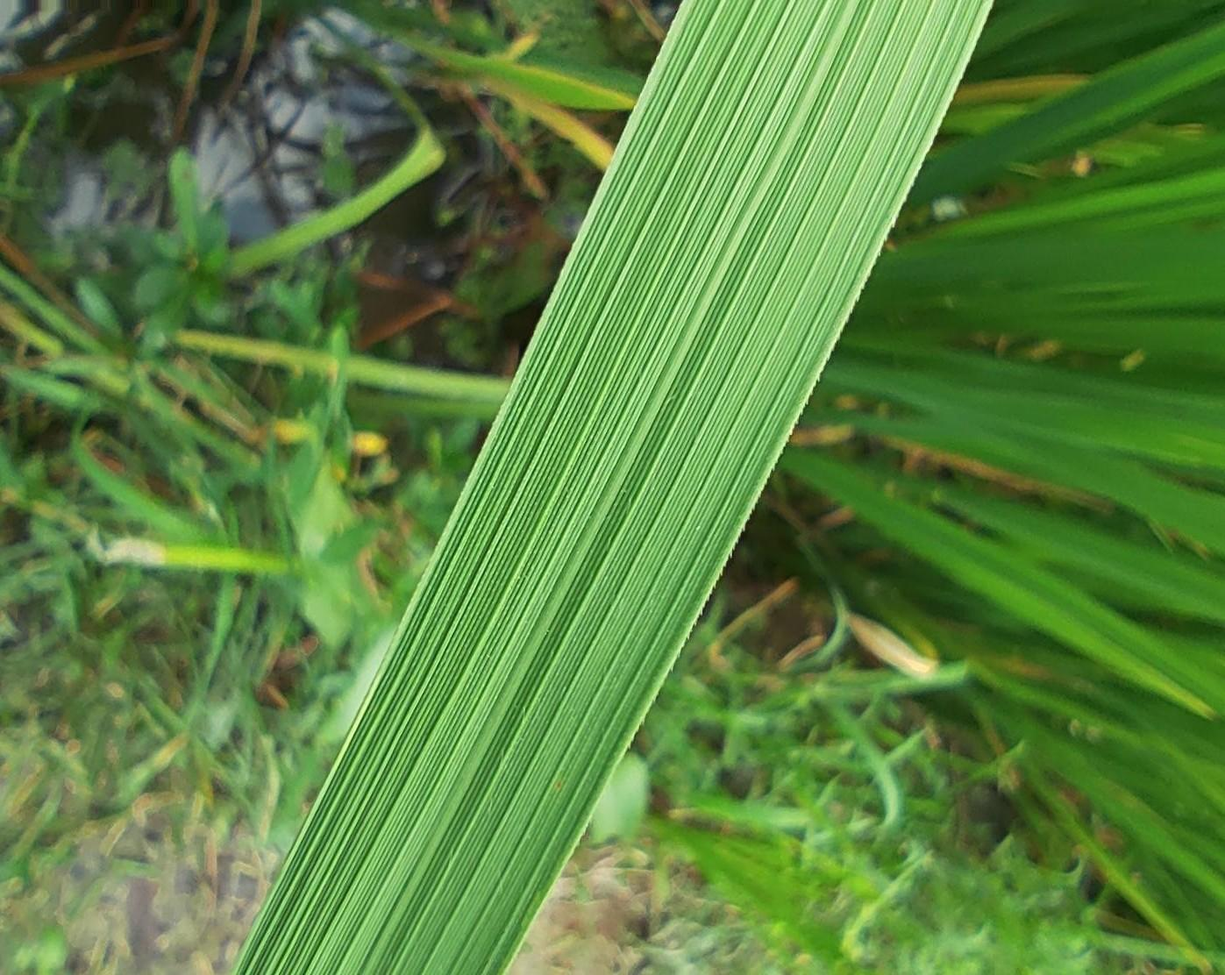Healthy: (235, 0, 990, 974)
